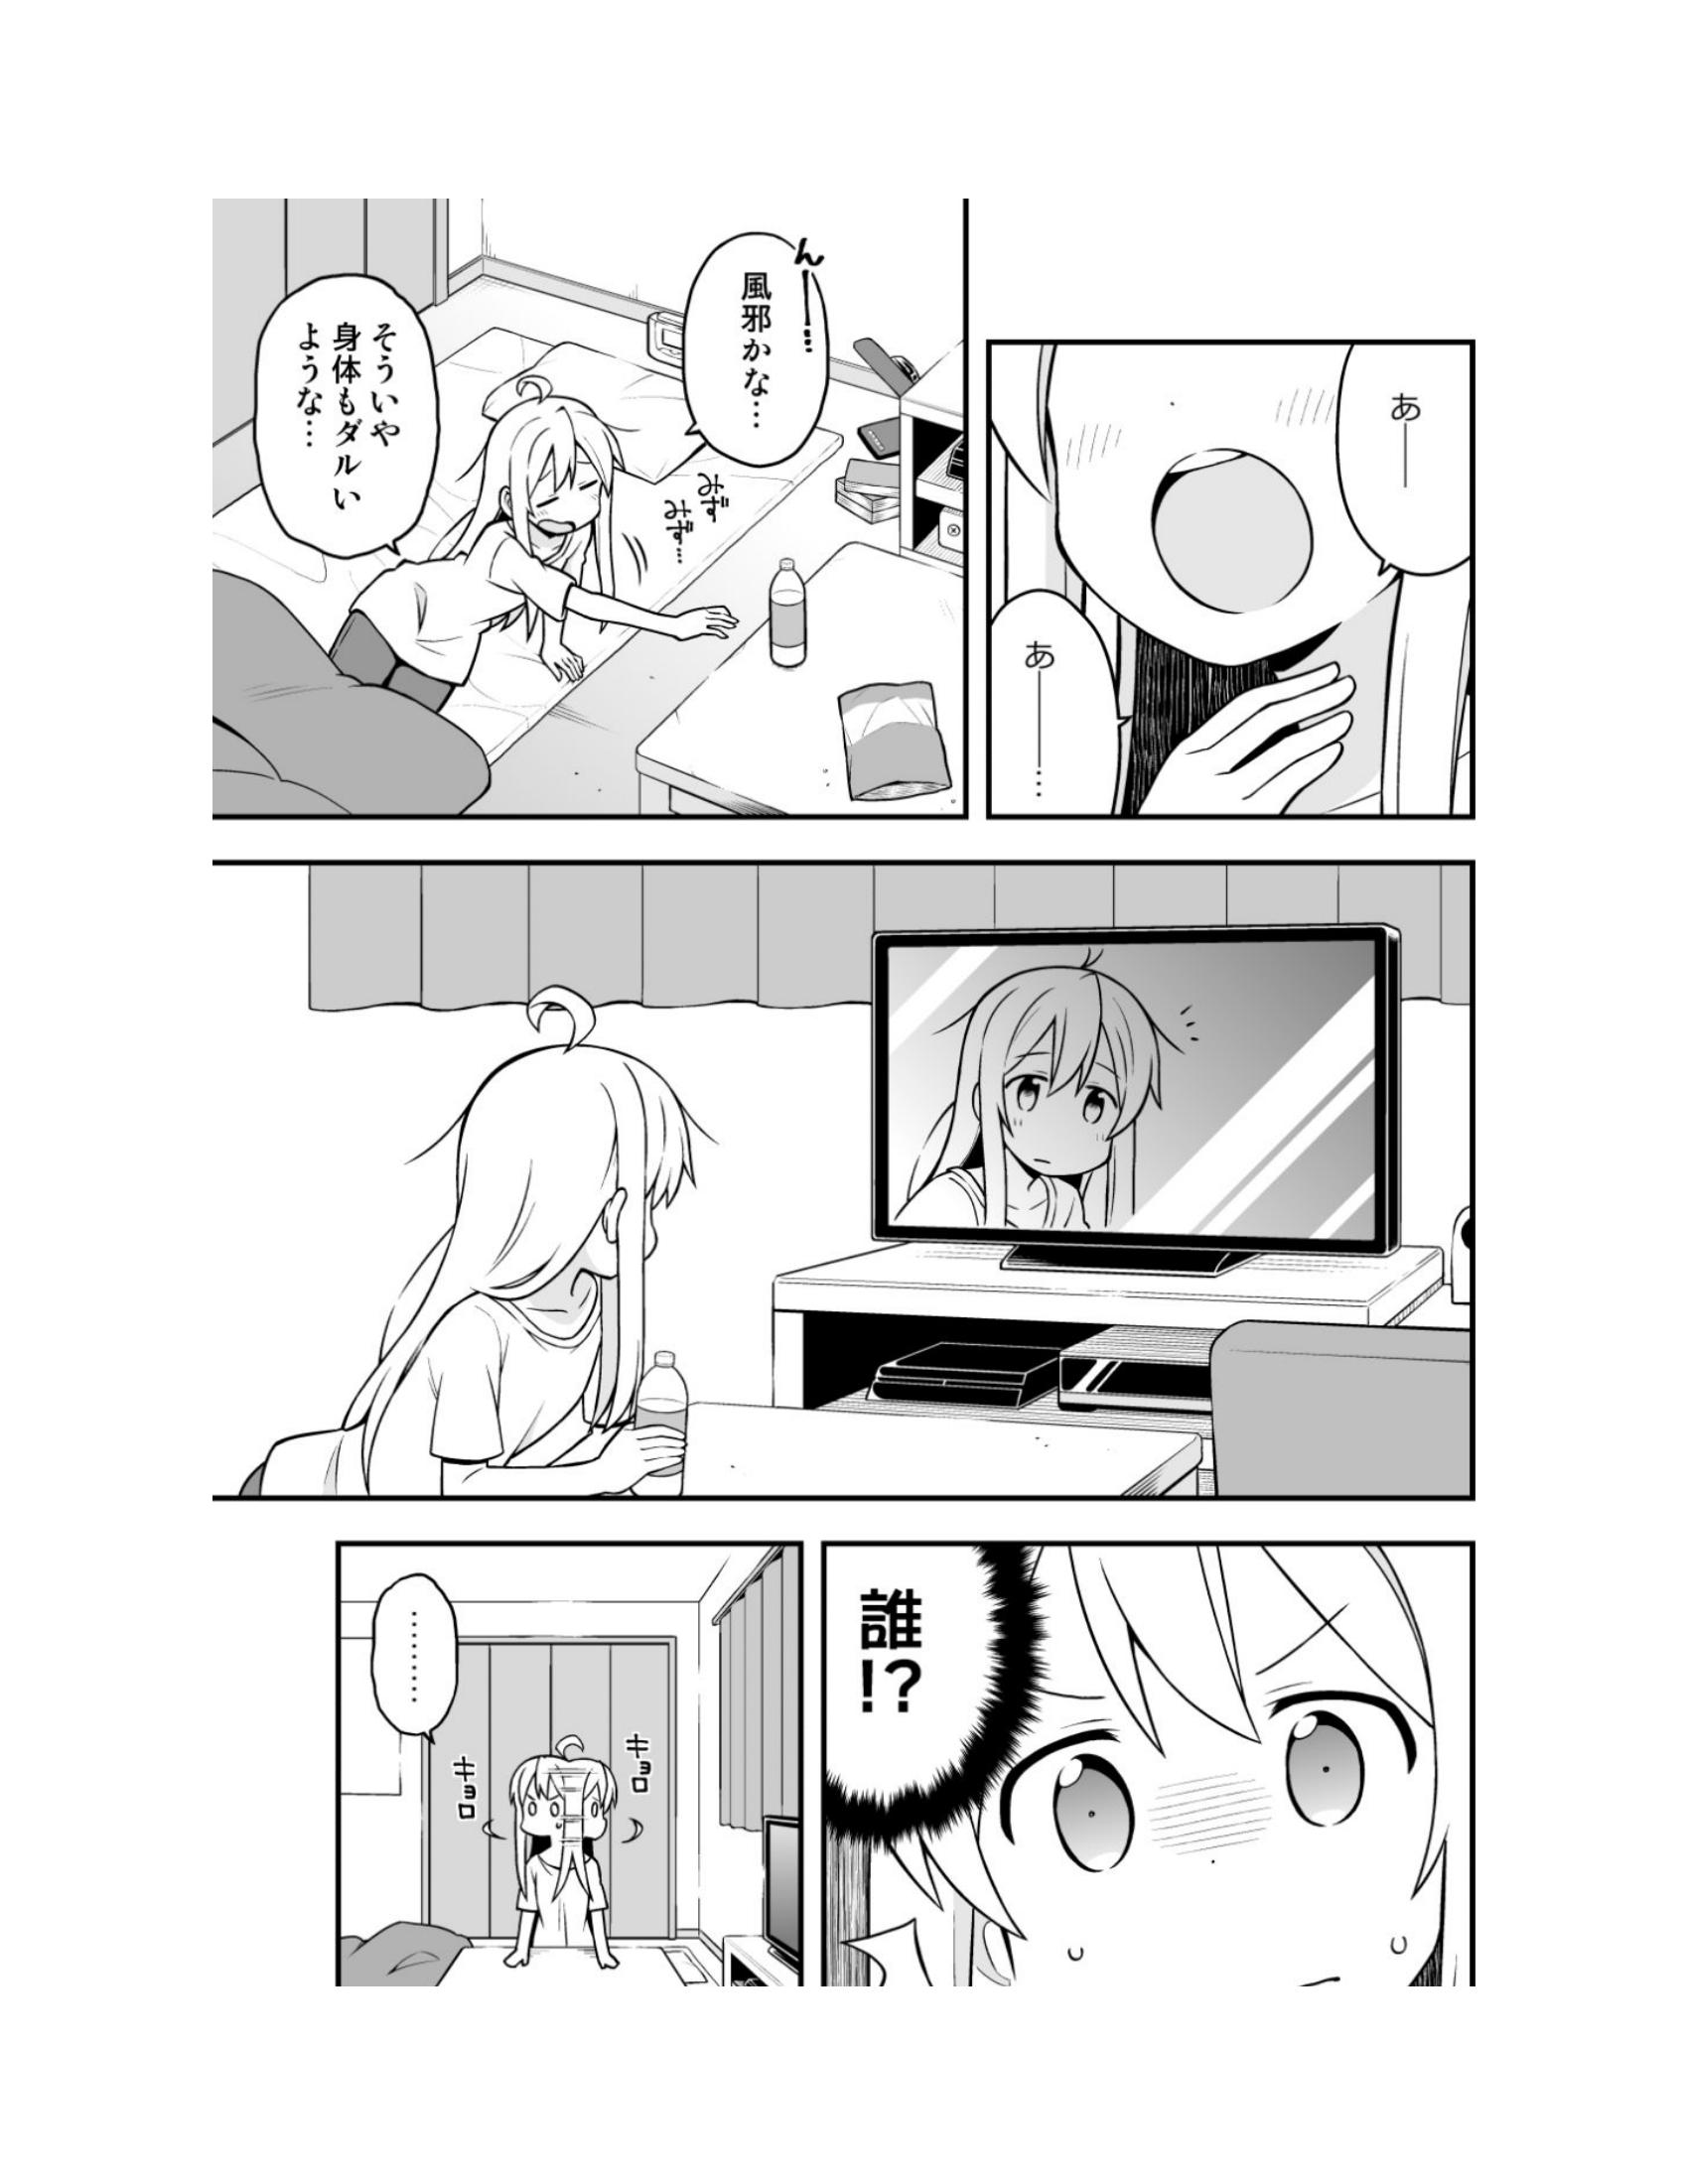a: (810, 1521, 1051, 1868), (241, 266, 456, 576), (661, 218, 874, 502)
